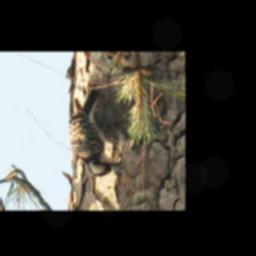Woodpecker: (68, 85, 123, 177)
